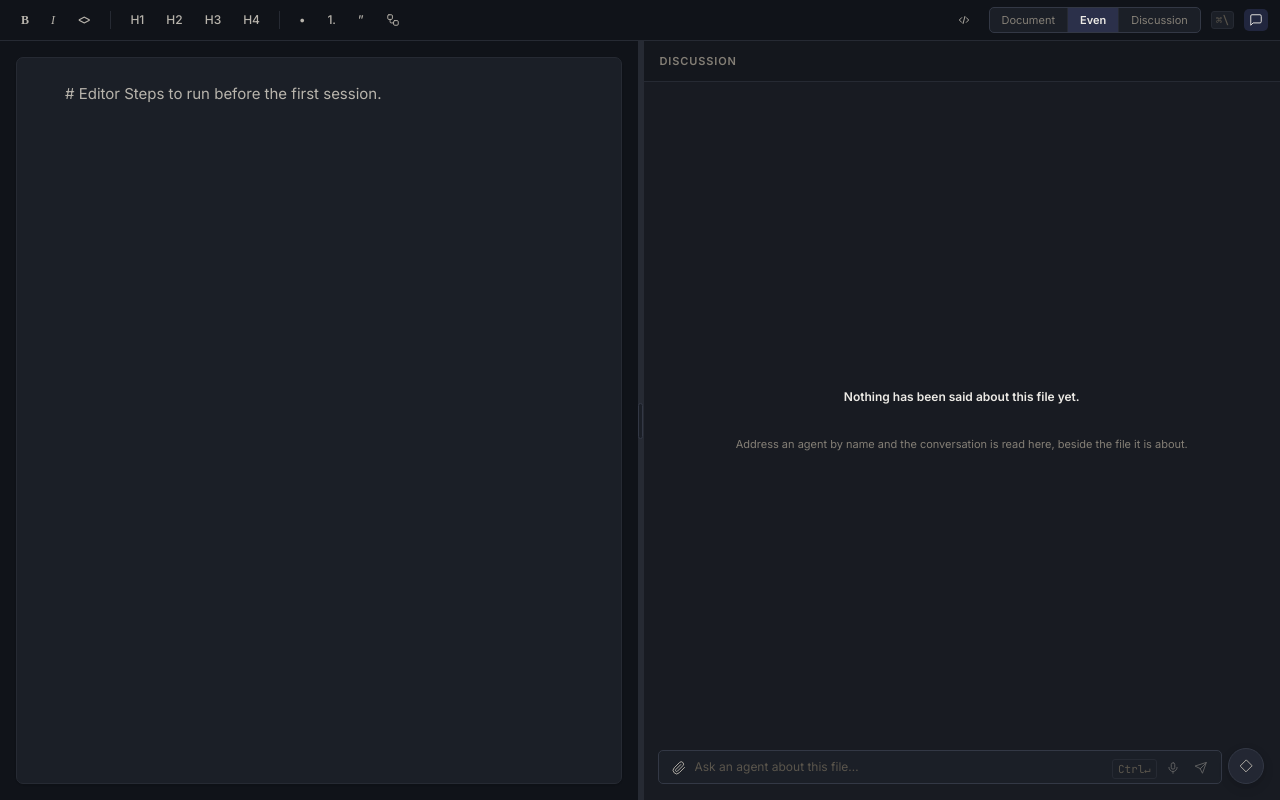
Test: the action set is decided by the item (ACT-FR-04, ACT-FR-05) › ACT-FR-01, ACT-FR-03, ACT-FR-04, ACT-FR-05, ACT-FR-09: a file with no special type affords Discuss alone
Click the button named "Actions" at (1246, 766), box [1228,748,1264,784]
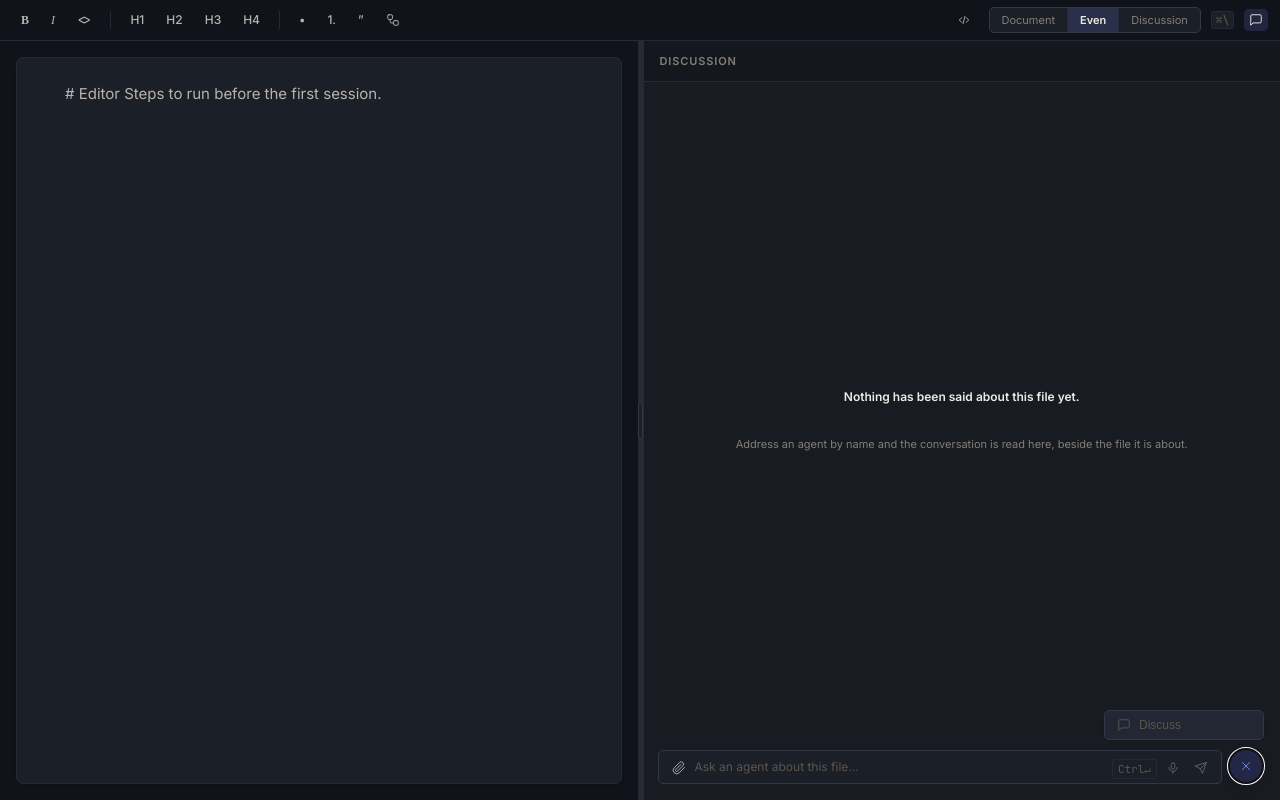
Click the button named "Close actions" at (1246, 766), box [1228,748,1264,784]
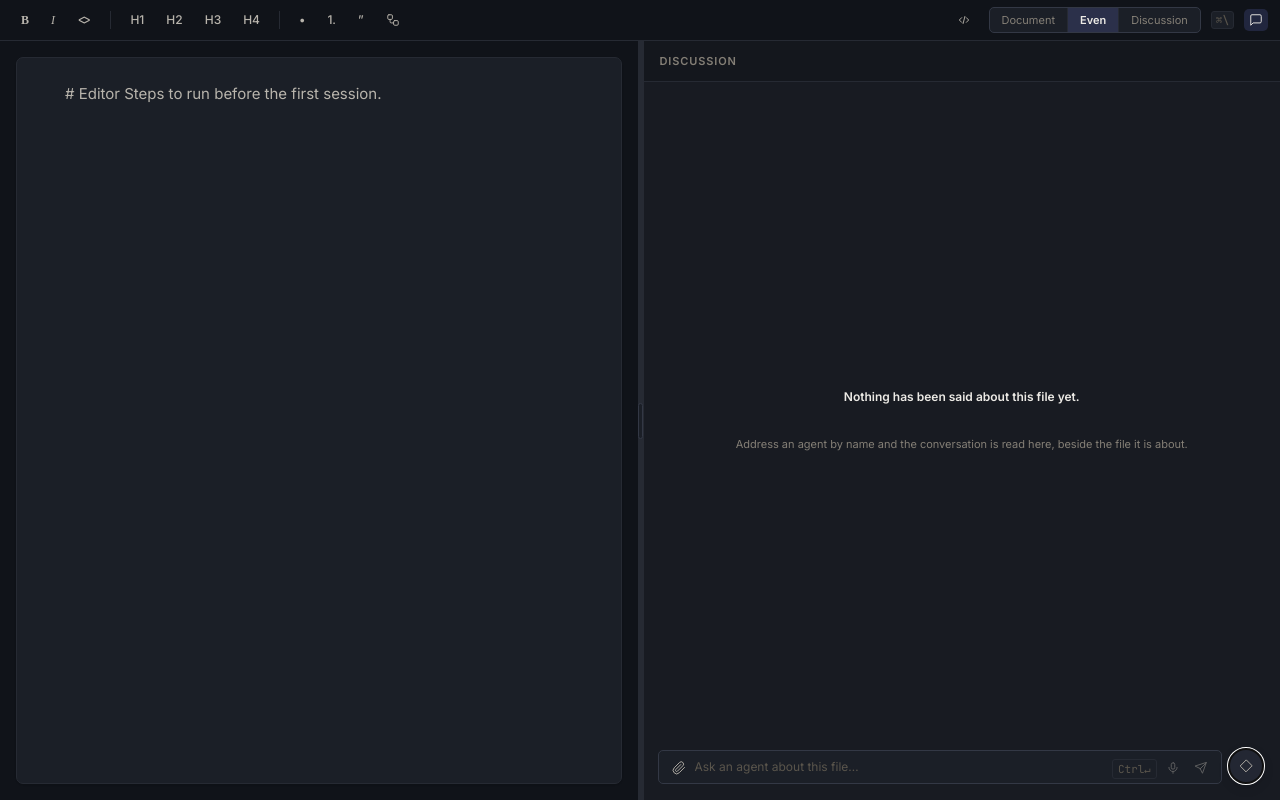
Expected: the menu is gone
